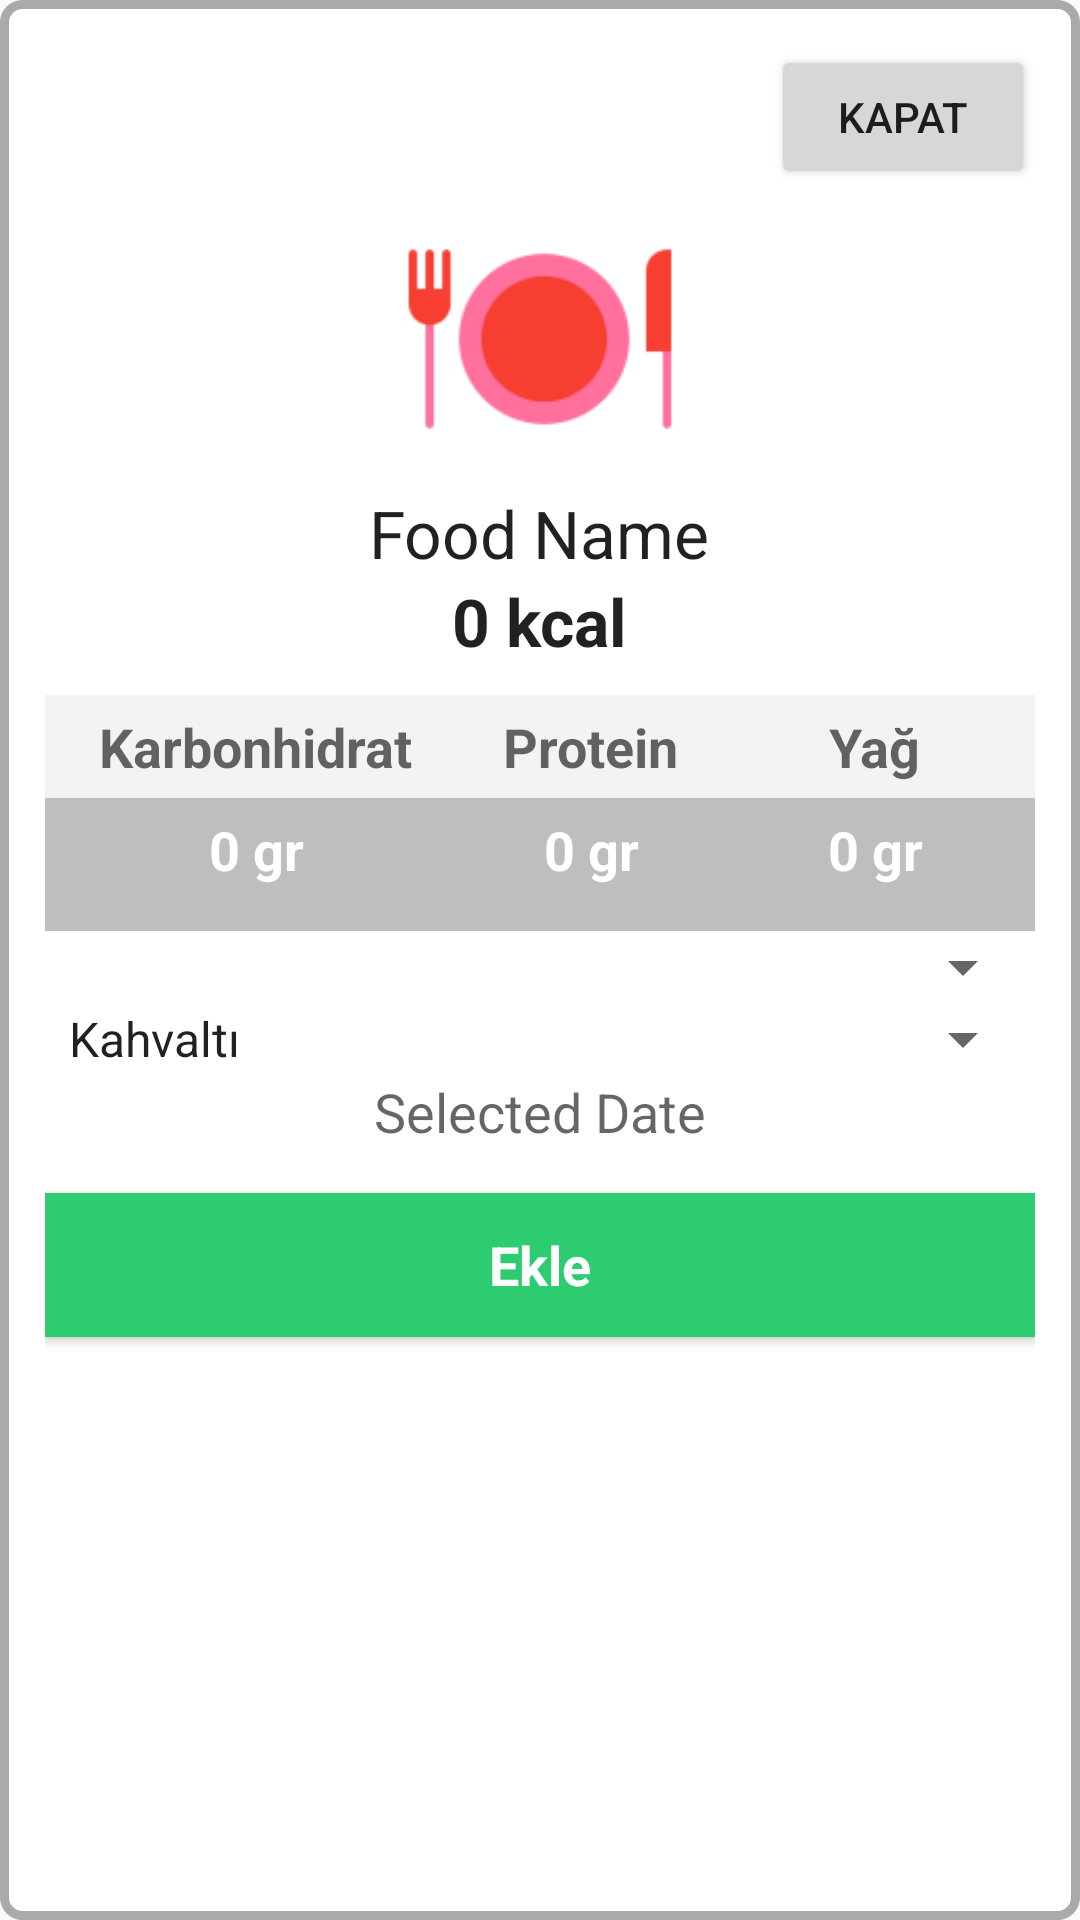

Icon bounding boxes for this 1080px x 1920px phone screenshot, format (x1, y1, x2, y2):
cutlery: (408, 249, 672, 429)
